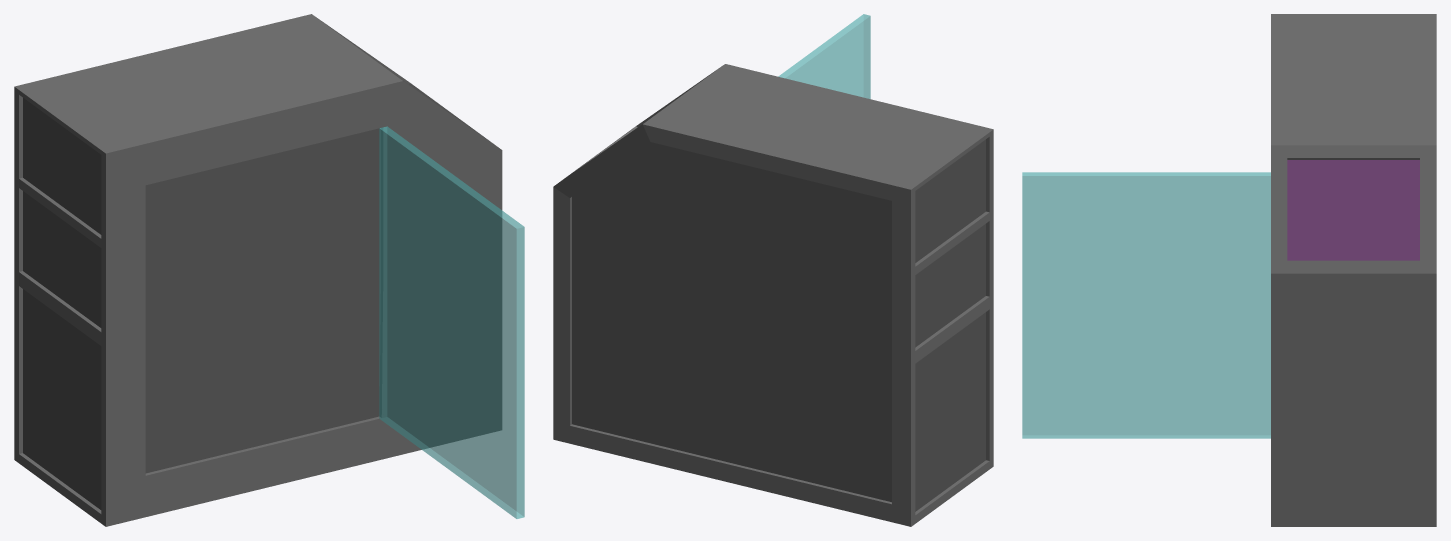
File: Turn Style.fbx
The picture shows the model from 3 angles, left to right: view 1: azimuth 30°, elevation 25°; view 2: azimuth 150°, elevation 25°; view 3: azimuth 270°, elevation 25°; orthographic projection. The views are drawn at different scales.
Visible parts, largest first — view 1: Turn Style, Door; view 2: Turn Style, Door; view 3: Turn Style, Door.
Part boxes in pixels (<box>): Turn Style: <box>14,14,502,526</box>; Door: <box>379,126,524,518</box>; Turn Style: <box>553,64,993,526</box>; Door: <box>778,14,870,98</box>; Turn Style: <box>1271,14,1436,526</box>; Door: <box>1022,172,1270,438</box>.
Bounding box in the file's own units: 1000 × 900 × 1000.
